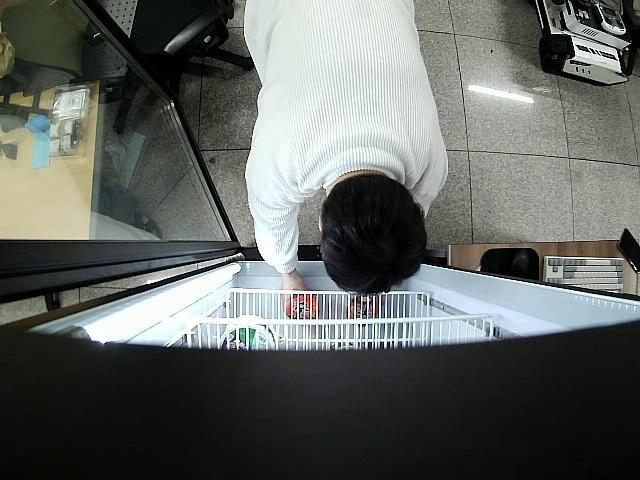02_shinRamen_S: (288, 294, 322, 320)
